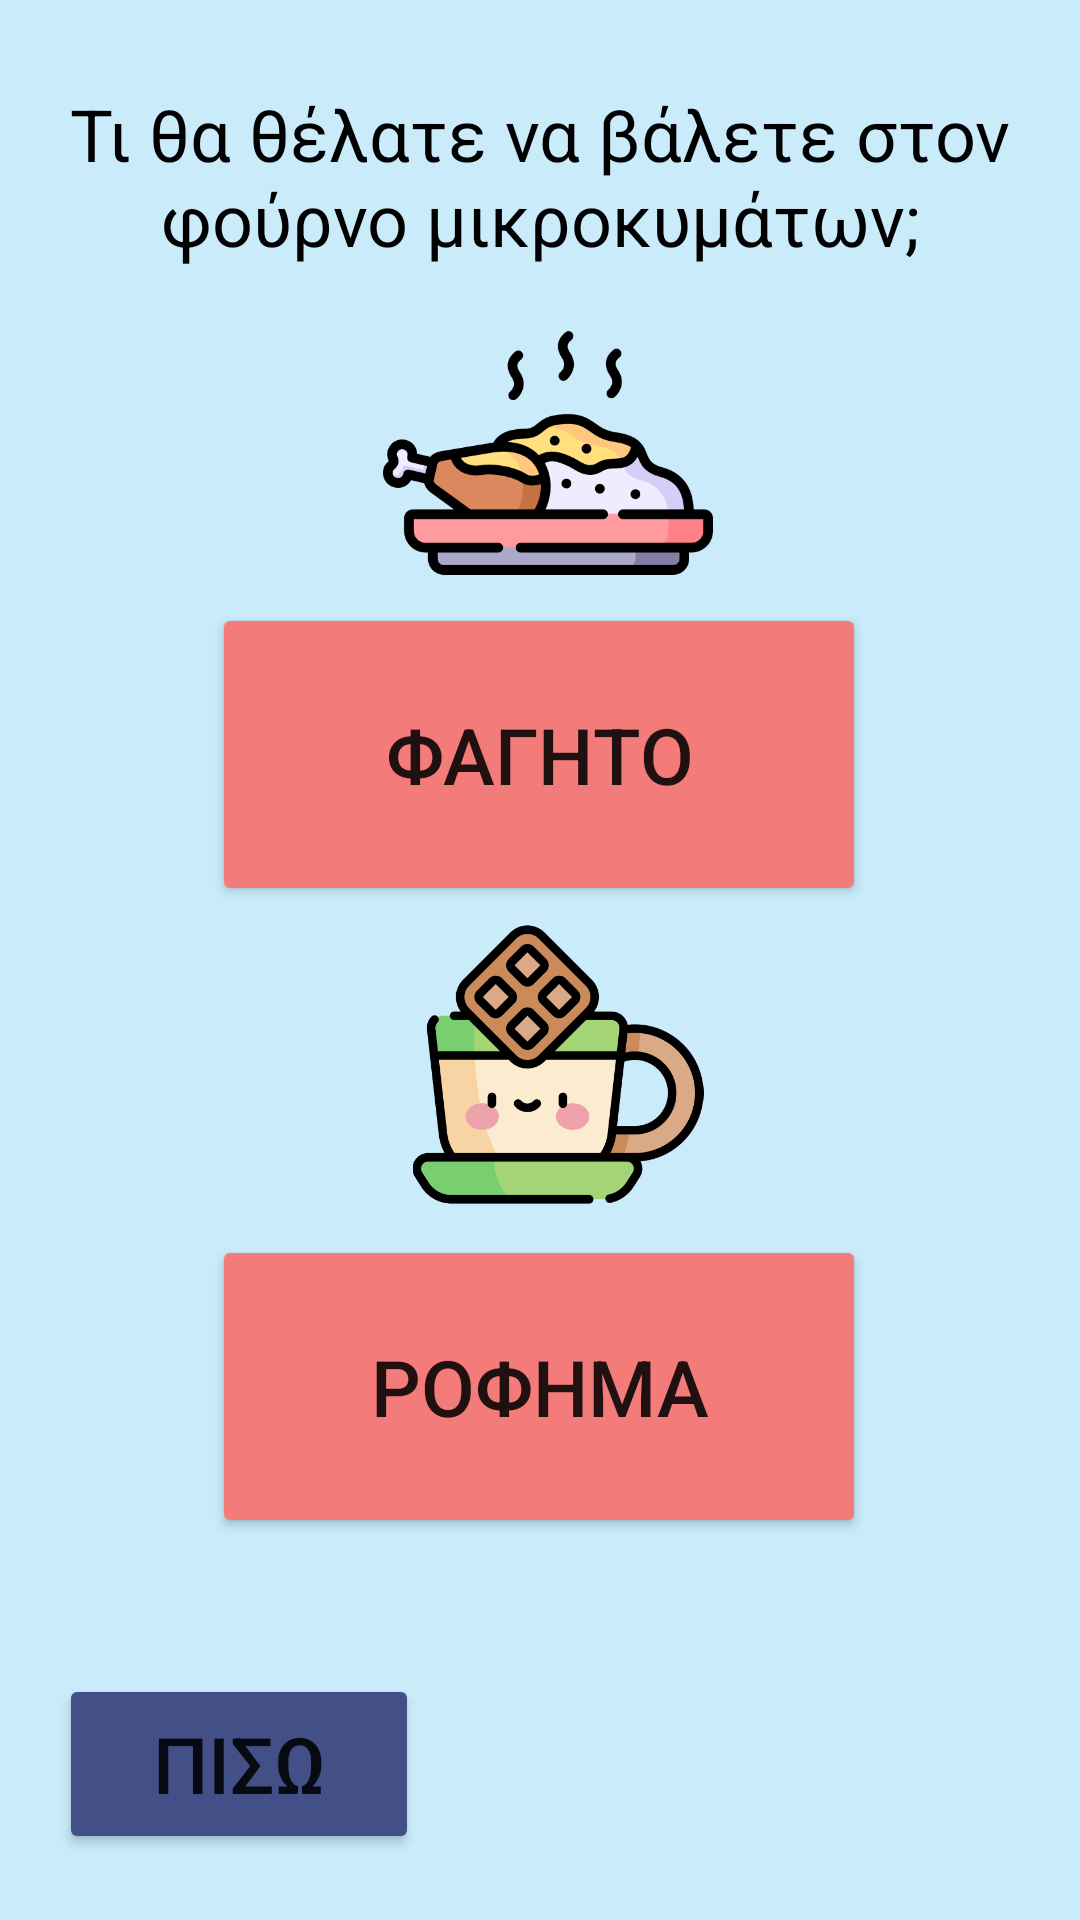

Screen size 1080*1920. Icon name, then its center in pixels as point (x, y):
hot chocolate: point (558, 1064)
